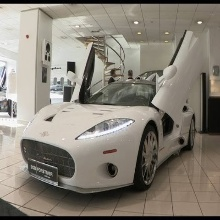no damage: (19, 30, 196, 196)
